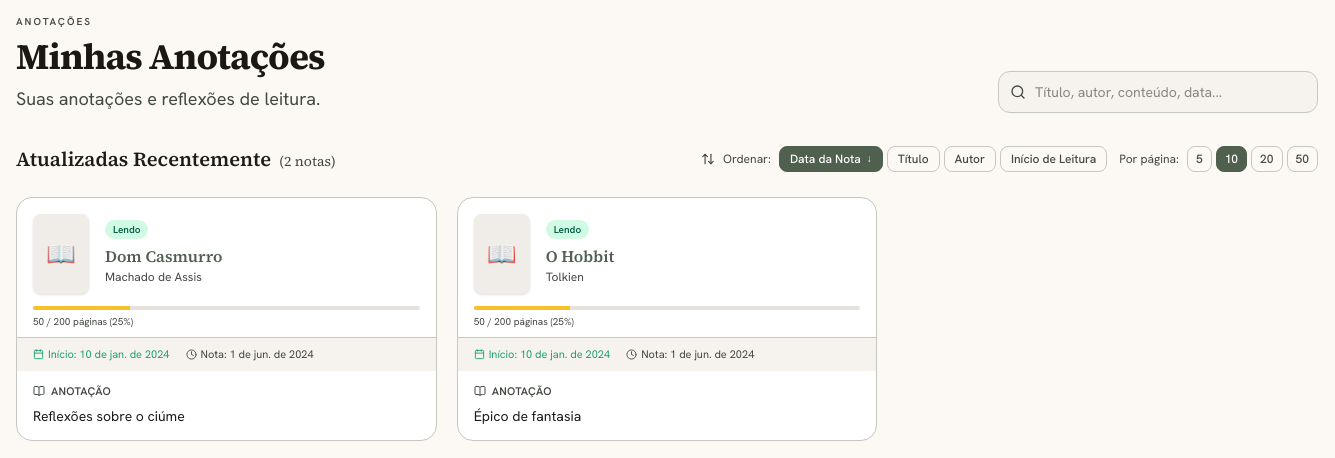
NotesDashboardPage — search filter › filters by note content
The image size is (1335, 458).
Type "ciúme" into the field with placeholder "Título, autor, conteúdo, data..." at (1158, 92), box [998,71,1318,113]
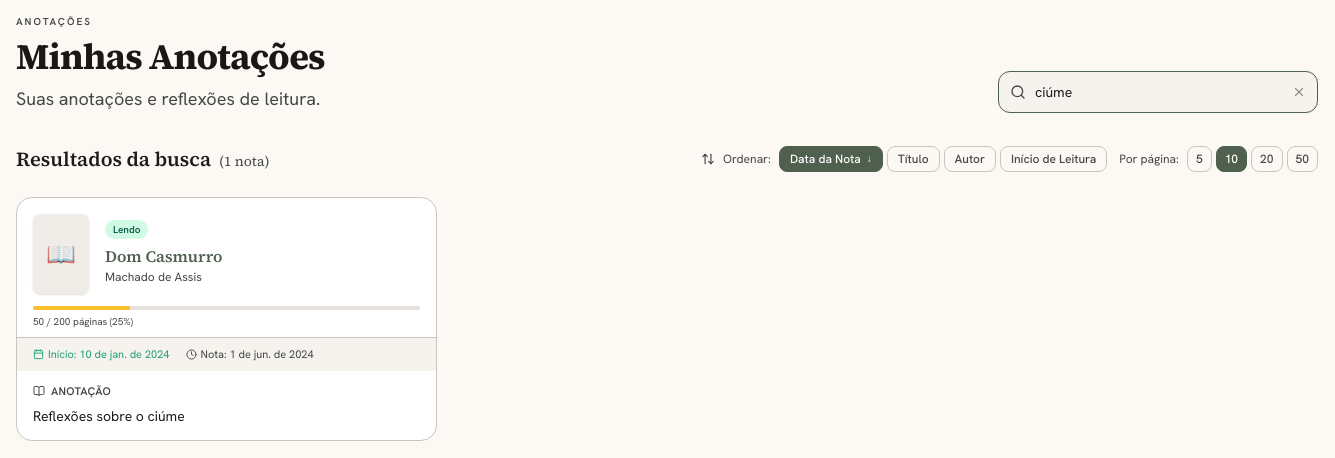
Expected: the heading "Dom Casmurro" is shown, [105,245,222,267]
Expected: the heading "O Hobbit" is gone
